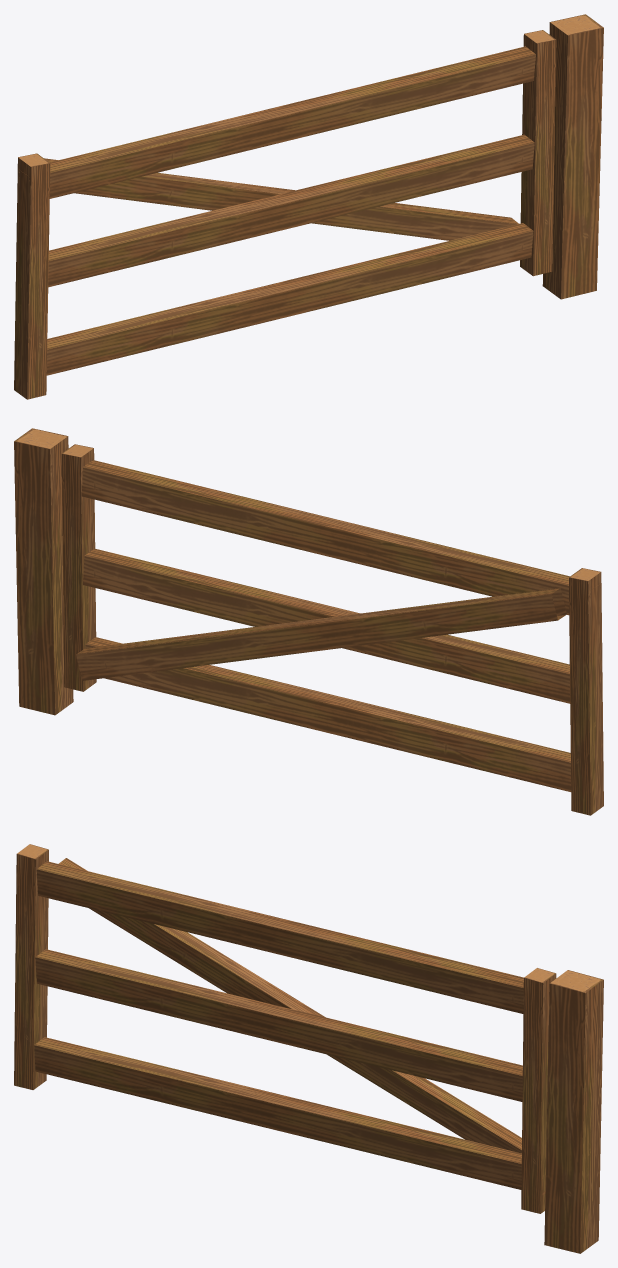
File: Furtka_Pastwisko.fbx
3 views of the same model, one above another, from view 1: azimuth 30°, elevation 25°; view 2: azimuth 150°, elevation 25°; view 3: azimuth 330°, elevation 25° (orthographic).
Parts seen in each view (by area): view 1: Furtka_Skrzydlo, Furtka_Slupek; view 2: Furtka_Skrzydlo, Furtka_Slupek; view 3: Furtka_Skrzydlo, Furtka_Slupek.
Boxes of the visible parts, x1,y1,x2,y2 form: Furtka_Skrzydlo: [14, 30, 556, 399]; Furtka_Slupek: [542, 14, 603, 299]; Furtka_Skrzydlo: [61, 444, 603, 815]; Furtka_Slupek: [14, 428, 73, 715]; Furtka_Skrzydlo: [14, 844, 556, 1213]; Furtka_Slupek: [544, 970, 603, 1253].
Size of the model in its own units: 1.91 by 0.8381 by 0.1502.
